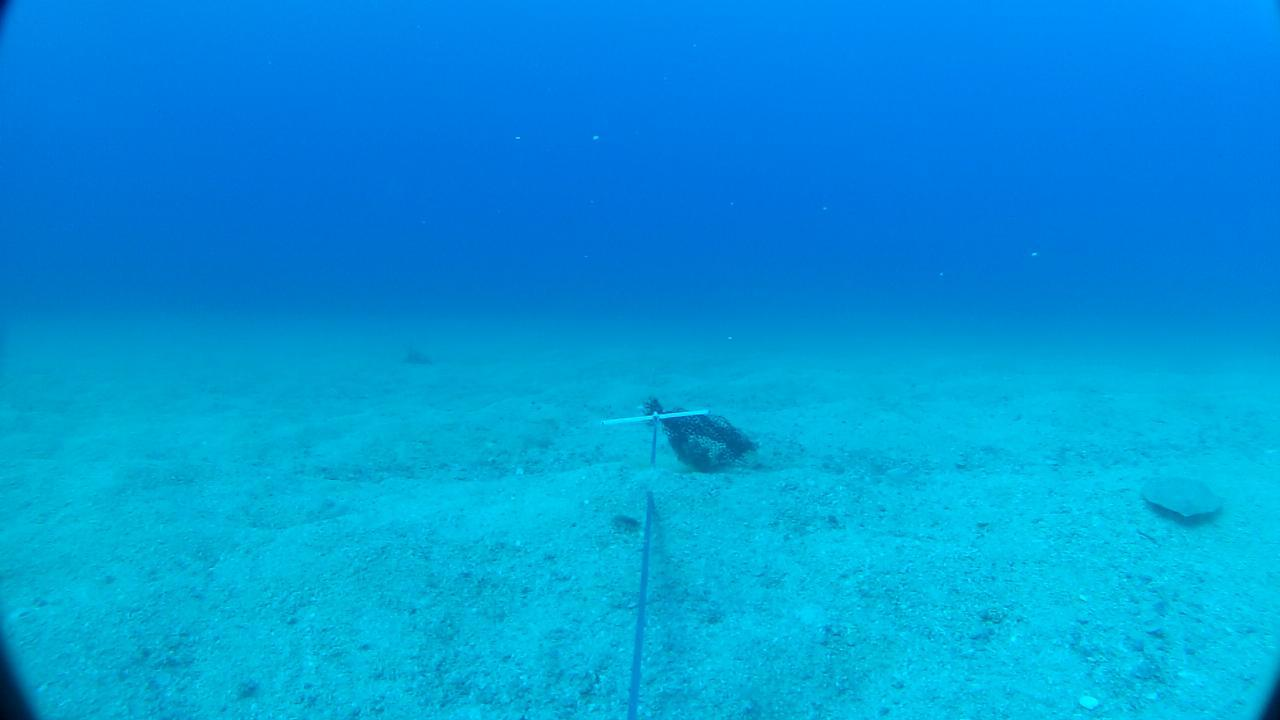bothus: (1131, 470, 1224, 529)
